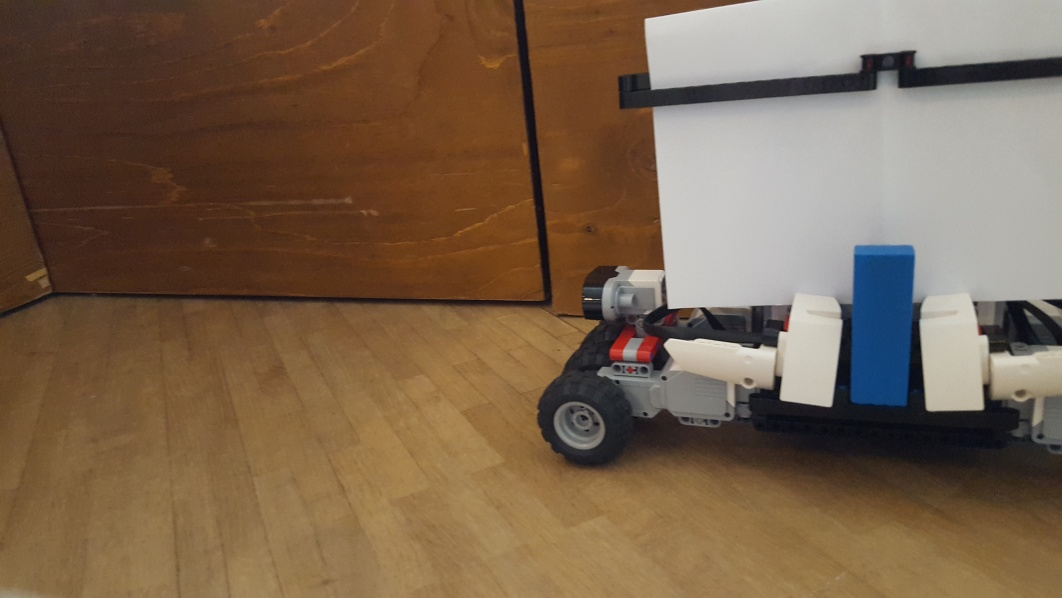beam: (852, 239, 919, 413)
